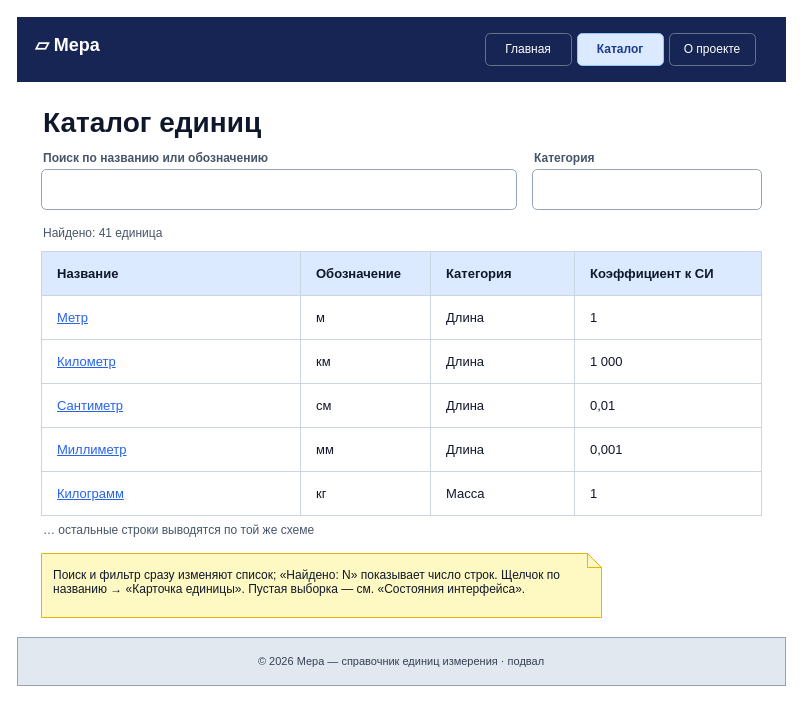
Some shapes in this 803 by 703 pixel diagram are drawn without their labels. The centre of each missing label's shape, as x and y in pixels:
Все категории ▼: pixel 647 189
⌕ Введите запрос, например, метр…: pixel 278 189
